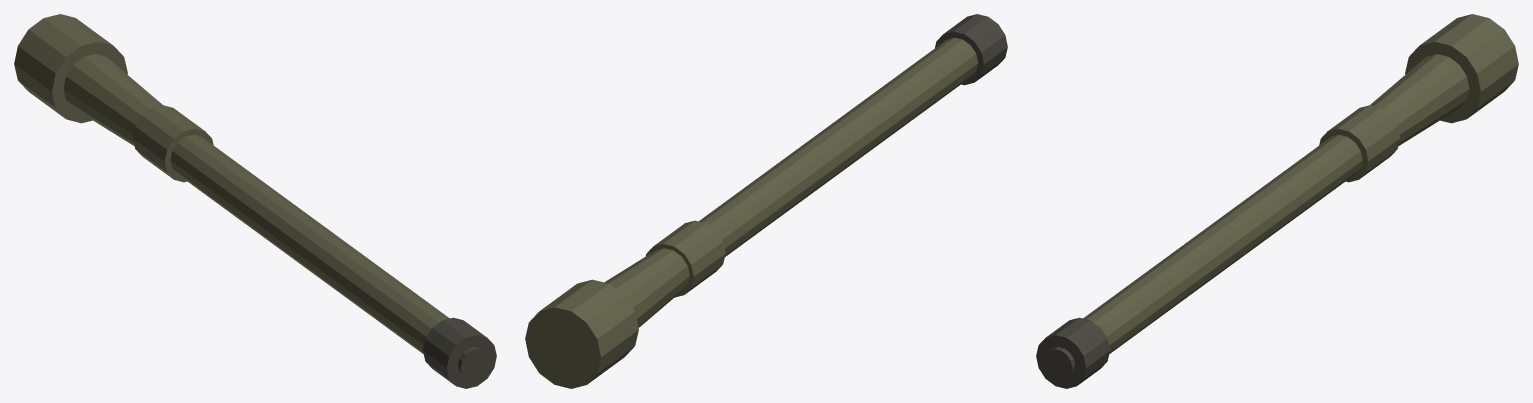
Rendered from Bastion_Cannon.obj.
The picture shows the model from 3 angles, left to right: view 1: azimuth 30°, elevation 25°; view 2: azimuth 150°, elevation 25°; view 3: azimuth 330°, elevation 25°; orthographic projection.
Parts seen in each view (by area): view 1: Bastion_Cannon; view 2: Bastion_Cannon; view 3: Bastion_Cannon.
Boxes of the visible parts, x1=… form: Bastion_Cannon: x1=14, y1=14, x2=496, y2=388; Bastion_Cannon: x1=525, y1=14, x2=1007, y2=388; Bastion_Cannon: x1=1036, y1=14, x2=1518, y2=388.
Bounding box in the file's own units: 0.44 × 0.429 × 4.24.
Materials: 1 (1 with a texture image).
